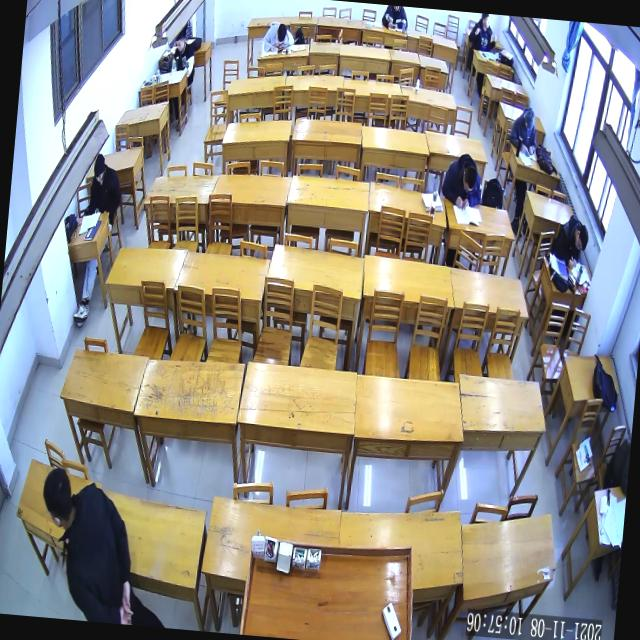bow: (260, 18, 296, 54)
down: (90, 150, 108, 186), (572, 222, 590, 254), (461, 164, 478, 194), (522, 105, 537, 132), (274, 20, 288, 44), (173, 31, 186, 54)
sit: (439, 150, 485, 210), (85, 150, 125, 218), (549, 212, 591, 272), (507, 104, 541, 156), (466, 12, 499, 52), (169, 30, 197, 76)
